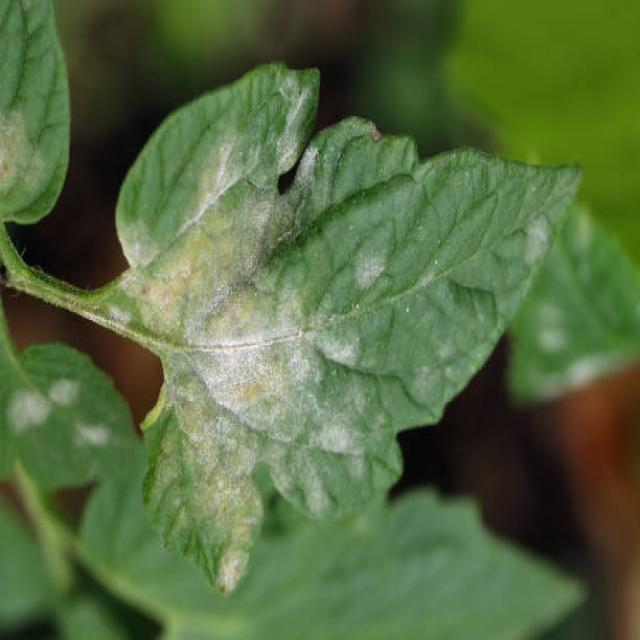Powdery Mildew: (1, 55, 585, 598)
